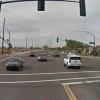Traffic light: (33, 1, 100, 21)
